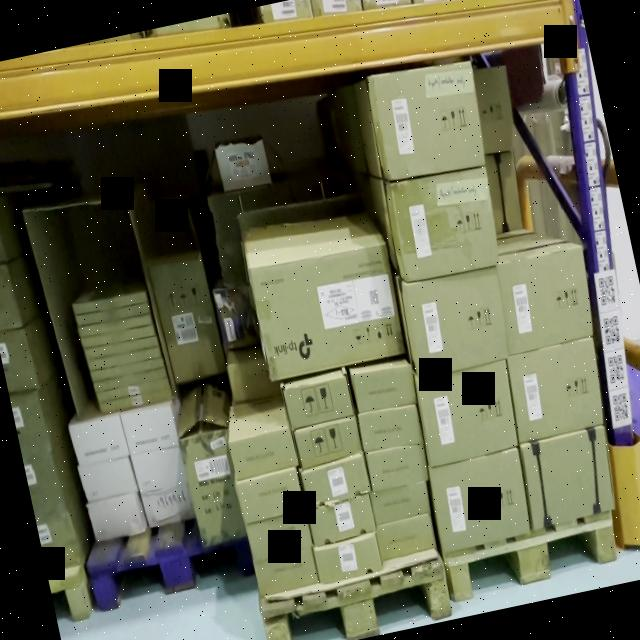box: (250, 244, 408, 383), (372, 61, 485, 183), (391, 165, 501, 279), (407, 265, 509, 379), (496, 246, 594, 358), (430, 450, 532, 557), (419, 359, 517, 465), (506, 339, 604, 445), (148, 252, 226, 384), (522, 430, 615, 528), (184, 436, 248, 543), (283, 373, 355, 427), (300, 451, 370, 504), (236, 468, 304, 520), (306, 495, 374, 544), (314, 536, 383, 584), (354, 364, 416, 416), (253, 547, 320, 595), (294, 421, 362, 466), (120, 403, 179, 454), (358, 407, 422, 453), (374, 519, 438, 565), (84, 492, 144, 541), (67, 412, 128, 460), (129, 444, 187, 494), (366, 444, 429, 490), (230, 432, 296, 475), (245, 514, 311, 557), (76, 457, 136, 501), (140, 482, 196, 527), (371, 482, 431, 523), (80, 323, 154, 350), (77, 313, 152, 338), (72, 290, 146, 315), (90, 357, 164, 382), (87, 346, 160, 371), (75, 302, 149, 326), (84, 336, 158, 360), (96, 379, 170, 402), (98, 389, 172, 412), (93, 369, 166, 392)
